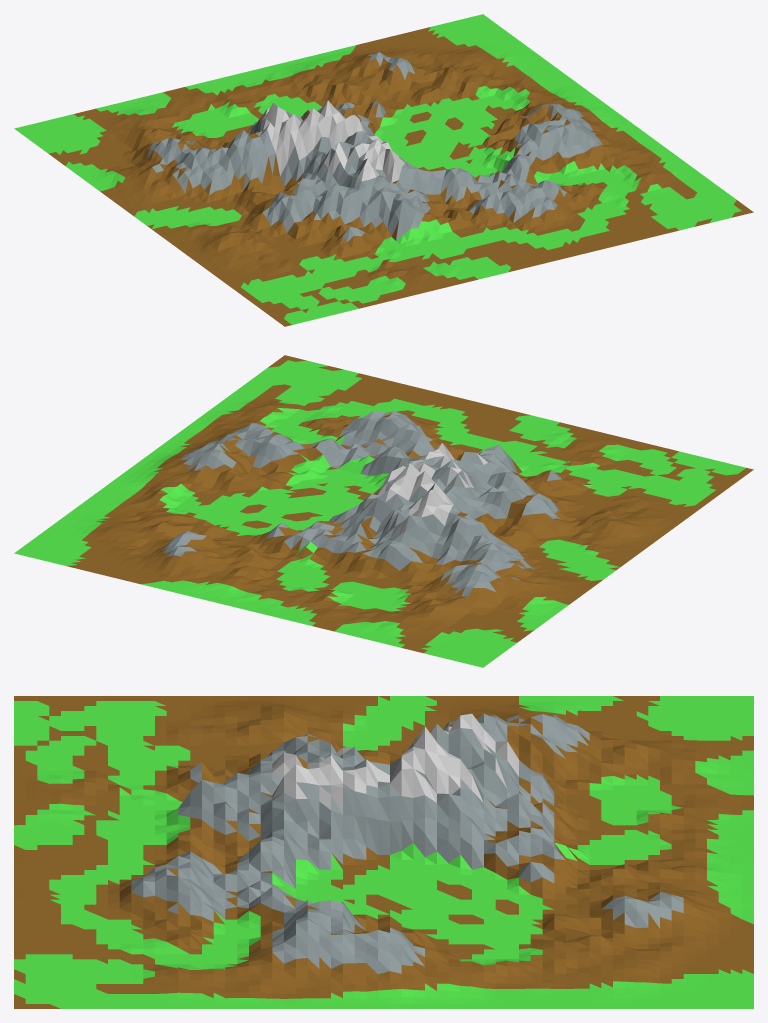
The model's file is ballons.glb.
The picture shows the model from 3 angles, top to bottom: view 1: azimuth 30°, elevation 25°; view 2: azimuth 150°, elevation 25°; view 3: azimuth 270°, elevation 25°; orthographic projection. The views are drawn at different scales.
Visible parts, largest first — view 1: Landscape.004; view 2: Landscape.004; view 3: Landscape.004.
Part boxes in pixels (x1,y1,x2,y2): Landscape.004: [14, 14, 753, 326]; Landscape.004: [14, 355, 753, 667]; Landscape.004: [14, 696, 753, 1008].
Size of the model in its own units: 4 by 0.5666 by 4.
